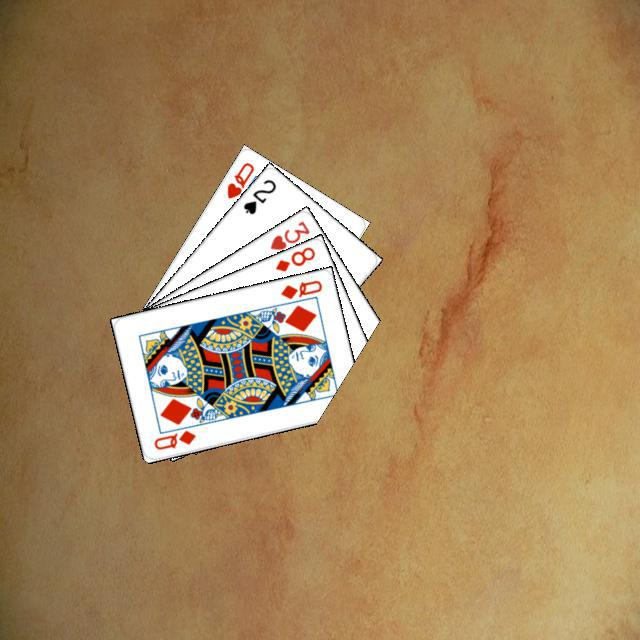2s: (238, 174, 278, 216)
3h: (265, 216, 312, 252)
8d: (270, 242, 317, 273)
Qd: (149, 425, 197, 452), (276, 275, 324, 301)
Qh: (222, 157, 256, 201)
